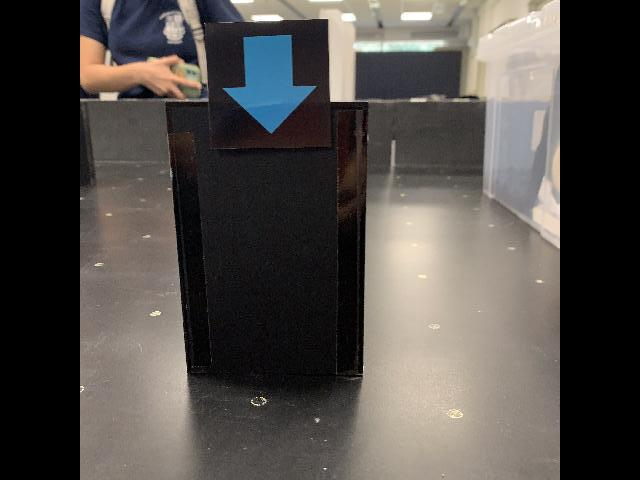down: (203, 17, 333, 152)
